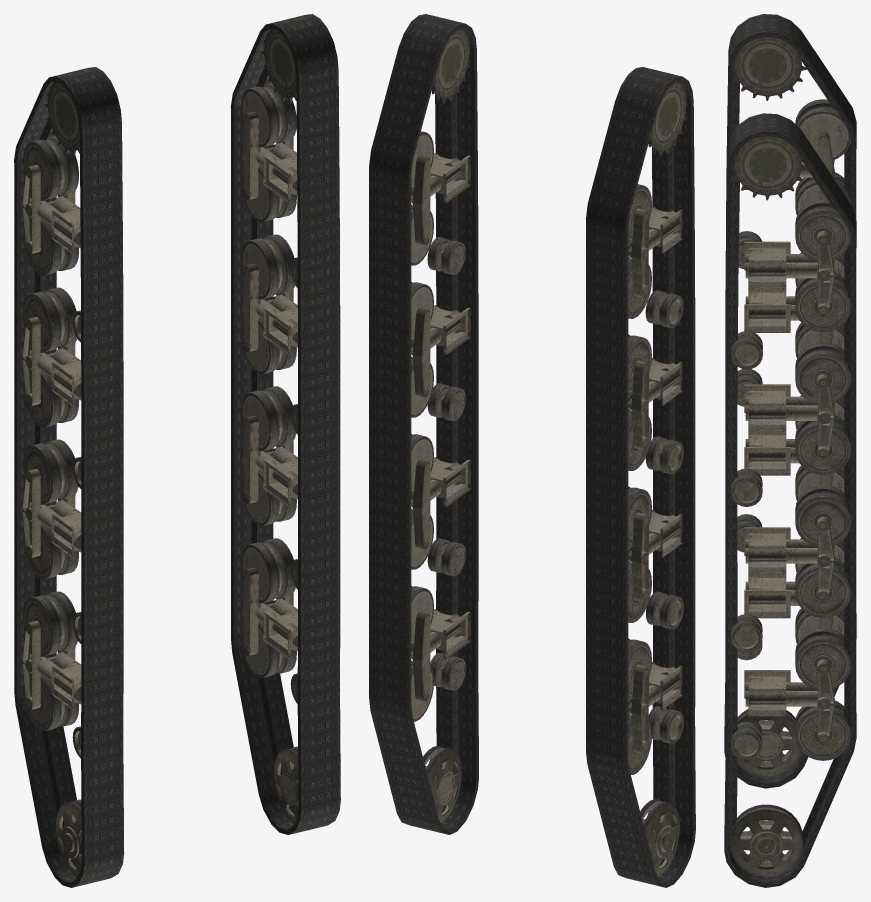
File: Chassis.glb
3 renders of one model, left to right at view 1: azimuth 30°, elevation 25°; view 2: azimuth 150°, elevation 25°; view 3: azimuth 270°, elevation 25°, orthographic. The views are drawn at different scales.
Visible parts, largest first — view 1: set_0_group_0, set_1_group_0, set_2_group_0, set_3_group_0; view 2: set_1_group_0, set_0_group_0, set_3_group_0, set_2_group_0; view 3: set_3_group_0, set_2_group_0, set_0_group_0, set_1_group_0.
Part boxes in pixels (bbox=[...]): set_0_group_0: bbox=[230, 14, 340, 834]; set_1_group_0: bbox=[14, 67, 124, 887]; set_2_group_0: bbox=[22, 81, 81, 877]; set_3_group_0: bbox=[241, 29, 298, 823]; set_1_group_0: bbox=[586, 67, 695, 887]; set_0_group_0: bbox=[369, 14, 478, 834]; set_3_group_0: bbox=[409, 29, 470, 823]; set_2_group_0: bbox=[621, 82, 686, 877]; set_3_group_0: bbox=[729, 121, 851, 876]; set_2_group_0: bbox=[733, 21, 851, 776]; set_0_group_0: bbox=[724, 113, 856, 887]; set_1_group_0: bbox=[724, 14, 856, 788].
Size of the model in its own units: 3.32 by 9.7 by 1.54.
4 materials, 4 textured.
